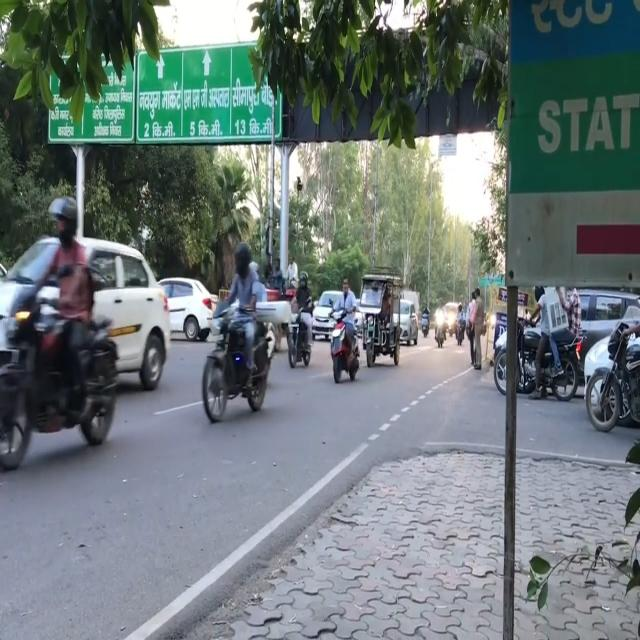Scooty: (329, 309, 364, 392)
